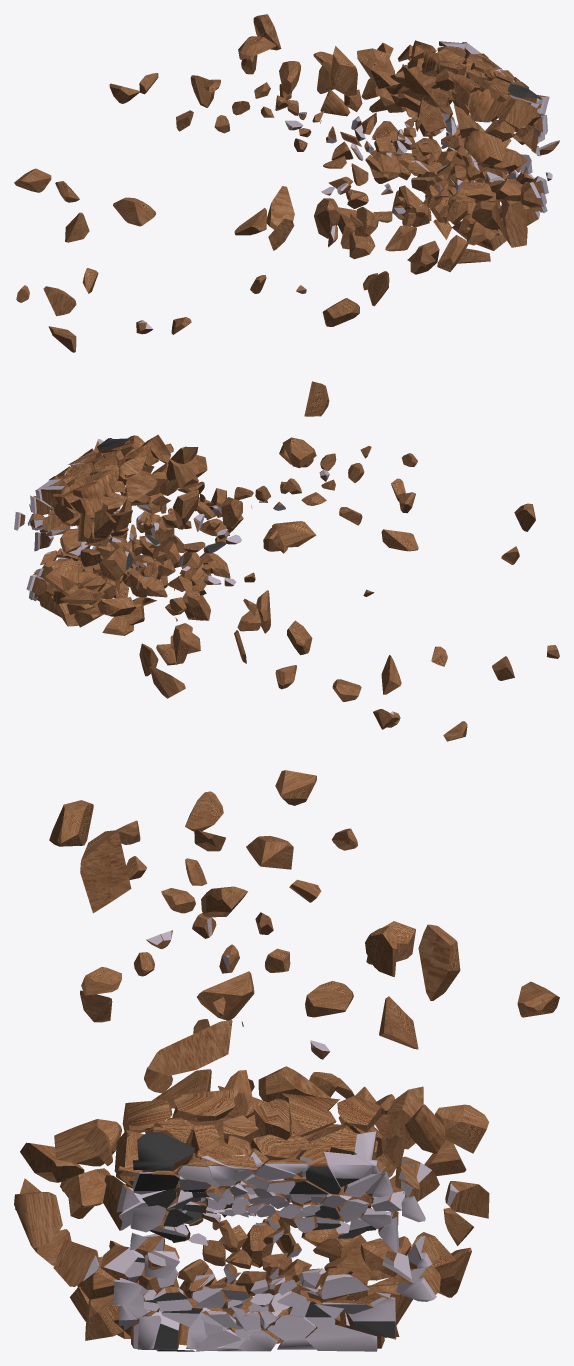
The model's file is AreneRingExplosion.fbx.
3 renders of one model, top to bottom at view 1: azimuth 30°, elevation 25°; view 2: azimuth 150°, elevation 25°; view 3: azimuth 270°, elevation 25°, orthographic. The views are drawn at different scales.
Parts seen in each view (by area): view 1: Cube; view 2: Cube; view 3: Cube.
Part boxes in pixels (x1=…): Cube: x1=14, y1=14, x2=559, y2=352; Cube: x1=14, y1=381, x2=559, y2=741; Cube: x1=14, y1=770, x2=559, y2=1351.
Bounding box in the file's own units: 3156 × 1686 × 1797.
